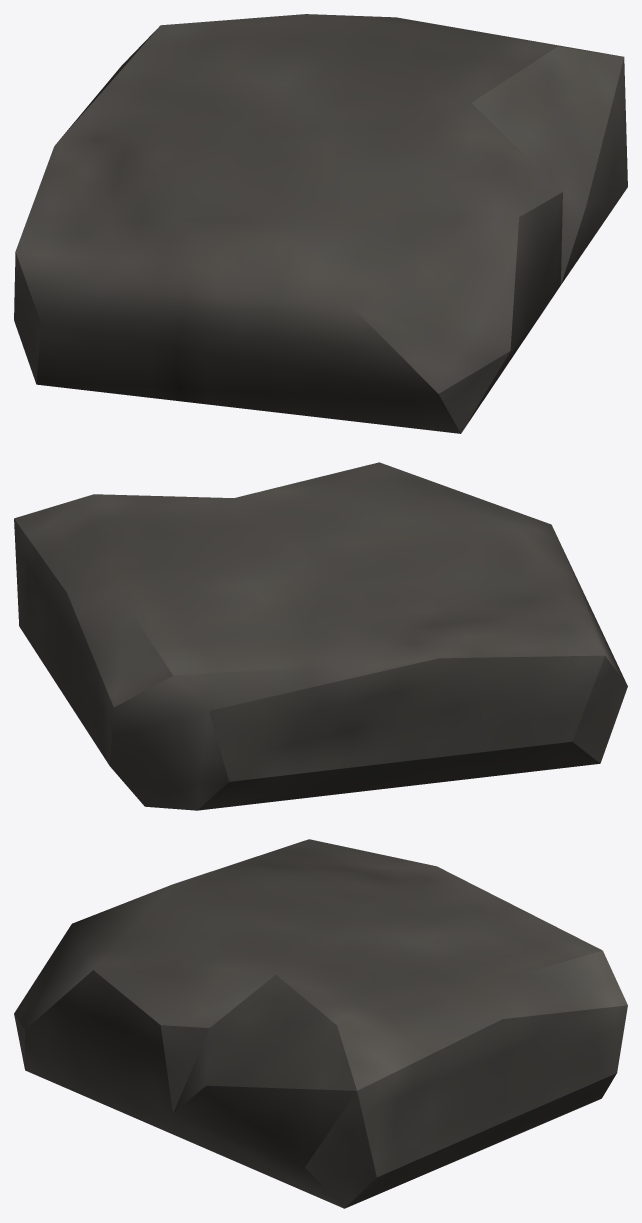
The model's file is Stair_el7.fbx.
3 renders of one model, top to bottom at view 1: azimuth 30°, elevation 25°; view 2: azimuth 150°, elevation 25°; view 3: azimuth 270°, elevation 25°, orthographic. The views are drawn at different scales.
Parts seen in each view (by area): view 1: Stair_el7; view 2: Stair_el7; view 3: Stair_el7.
Part boxes in pixels (left/top/right/bottom): Stair_el7: left=14, top=14, right=627, bottom=433; Stair_el7: left=14, top=462, right=627, bottom=810; Stair_el7: left=14, top=839, right=627, bottom=1208.
Size of the model in its own units: 143 by 40.2 by 138.
1 material, 1 textured.
